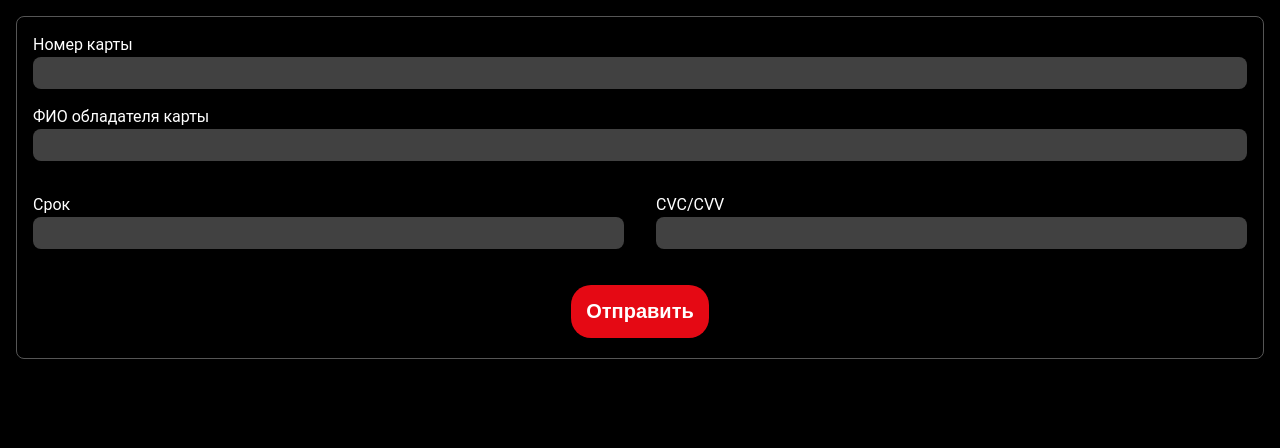
BankCardForm › shows validation errors on submit with empty fields
Click the button "Отправить": click(640, 312) [571,285,709,338]
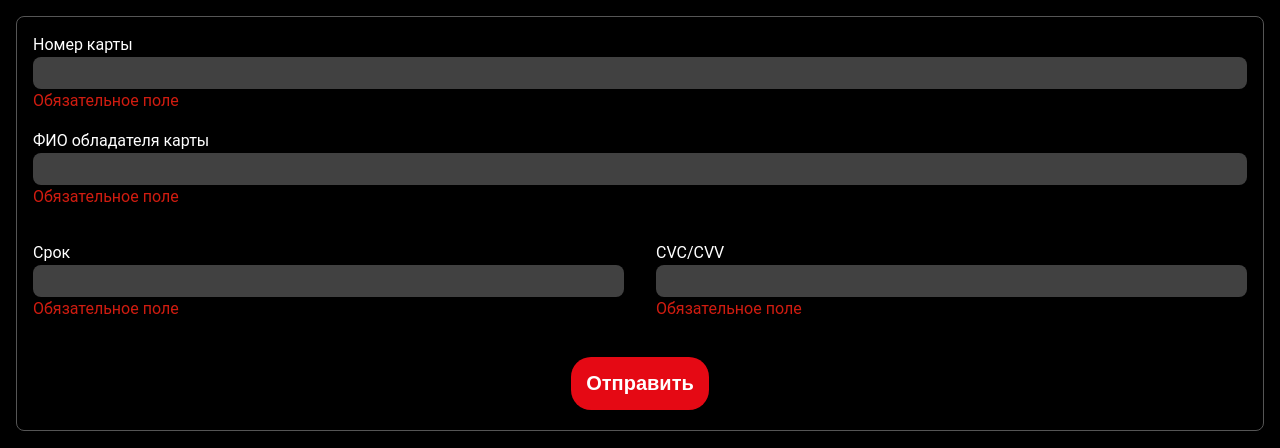
Result: the text "Обязательное поле" below "Номер карты" is shown at [33,91,179,110]
